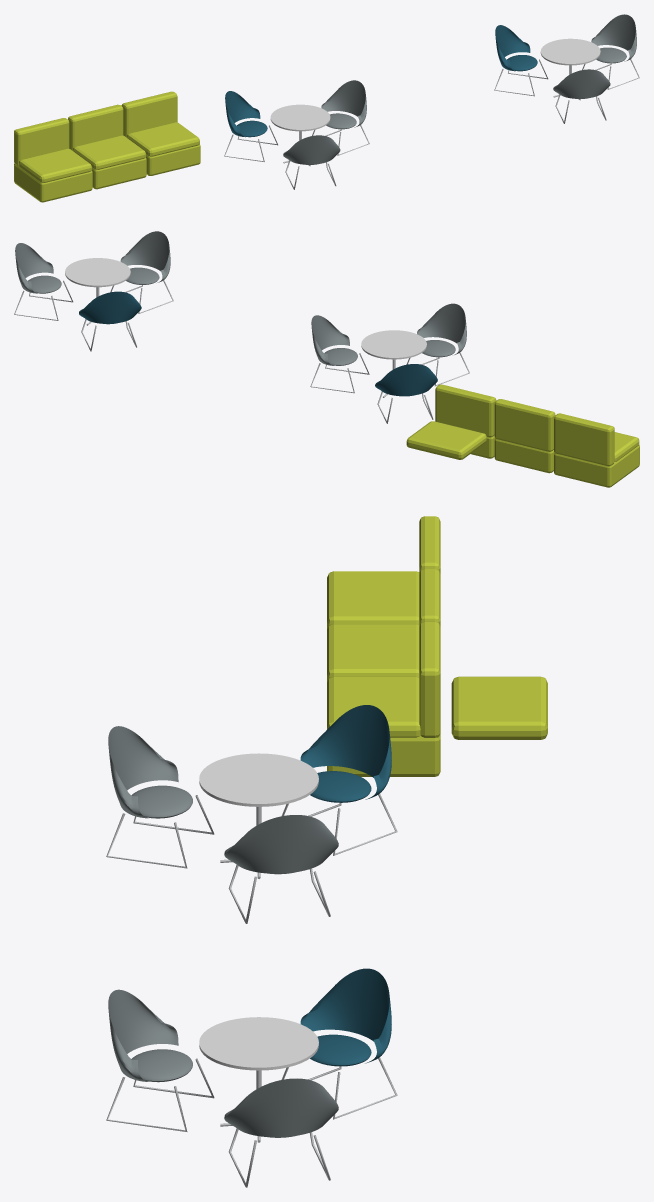
Rendered from SM_L1_Furniture_Solid_8986afcefe_0.fbx.
3 views of the same model, one above another, from view 1: azimuth 30°, elevation 25°; view 2: azimuth 150°, elevation 25°; view 3: azimuth 270°, elevation 25° (orthographic). The views are drawn at different scales.
Parts seen in each view (by area): view 1: SM_L1_Furniture_Solid_8986afcefe_0; view 2: SM_L1_Furniture_Solid_8986afcefe_0; view 3: SM_L1_Furniture_Solid_8986afcefe_0.
Boxes of the visible parts, <box> form: SM_L1_Furniture_Solid_8986afcefe_0: <box>14,14,639,202</box>; SM_L1_Furniture_Solid_8986afcefe_0: <box>14,231,639,487</box>; SM_L1_Furniture_Solid_8986afcefe_0: <box>106,516,547,1187</box>.
Size of the model in its own units: 10.72 by 3.54 by 0.994.
